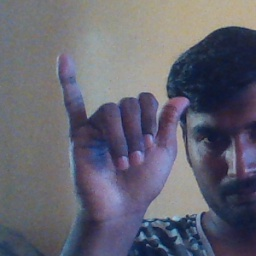J: (55, 52, 189, 214)
